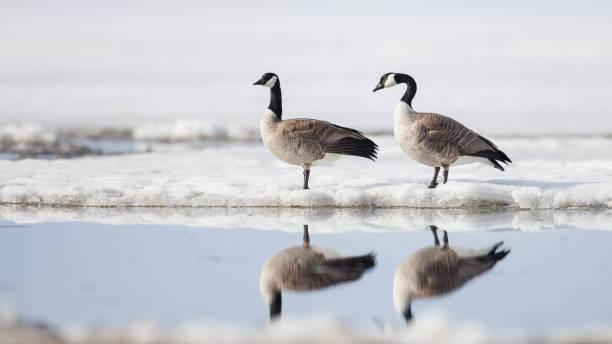Canadian-Goose: (371, 67, 510, 184), (253, 69, 374, 185)
